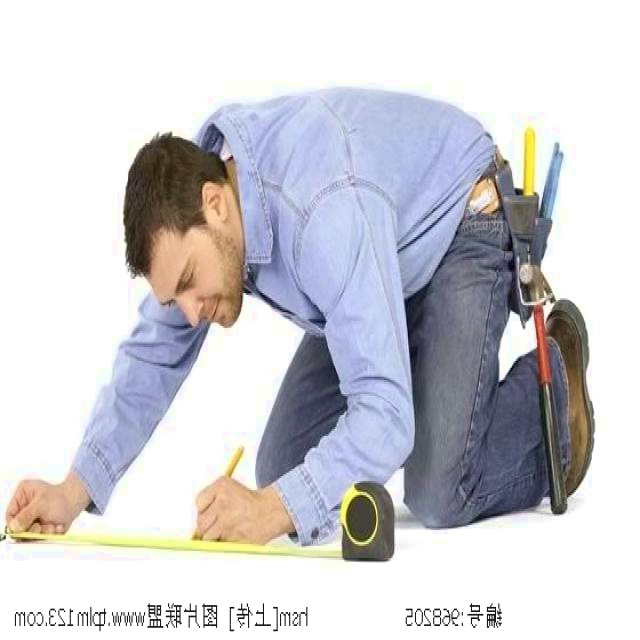Sin_Casco_Mascarrilla: (122, 132, 242, 329)
